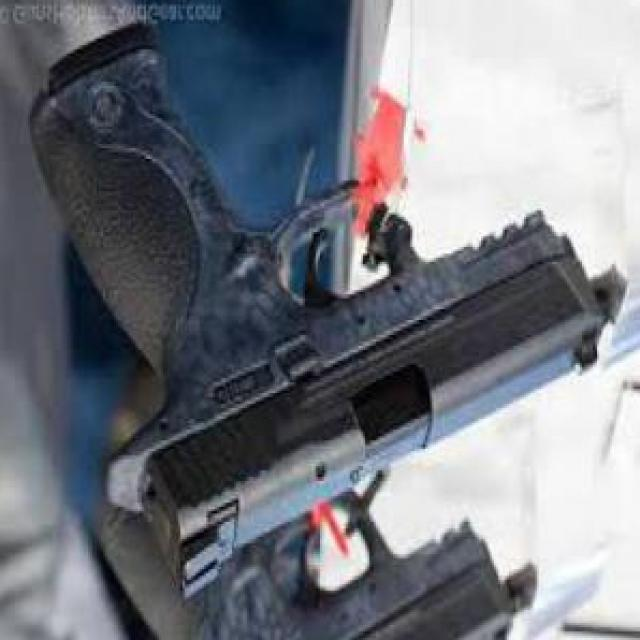pistol: (19, 51, 628, 602)
